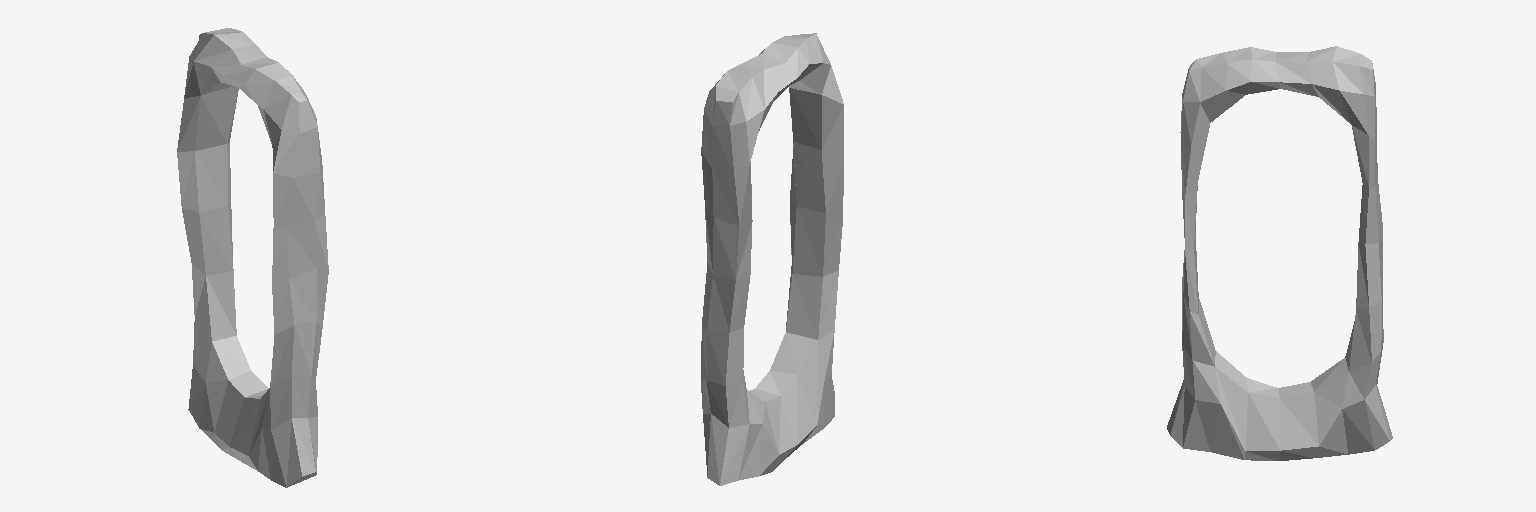
The model's file is portal.obj.
3 renders of one model, left to right at view 1: azimuth 30°, elevation 25°; view 2: azimuth 150°, elevation 25°; view 3: azimuth 270°, elevation 25°, orthographic.
Parts seen in each view (by area): view 1: Plane; view 2: Plane; view 3: Plane.
Part boxes in pixels (left/top/right/bottom): Plane: left=177, top=28, right=328, bottom=487; Plane: left=701, top=33, right=843, bottom=485; Plane: left=1167, top=46, right=1392, bottom=460.
Size of the model in its own units: 0.8054 by 4.93 by 2.49.